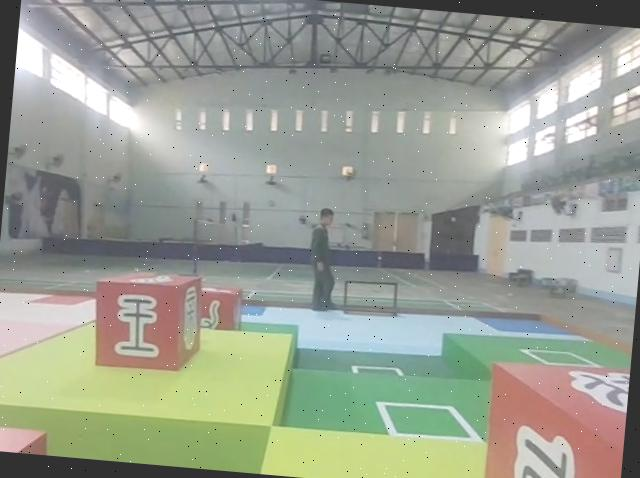R2 Fake: (477, 351, 630, 478), (84, 264, 206, 376)
R2 Real: (189, 281, 244, 335)
